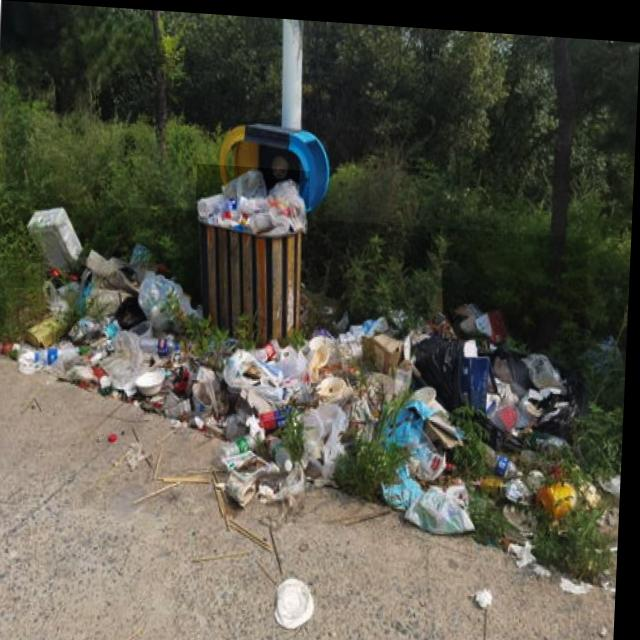garbage: (0, 199, 591, 533)
overflow: (193, 161, 312, 343)
